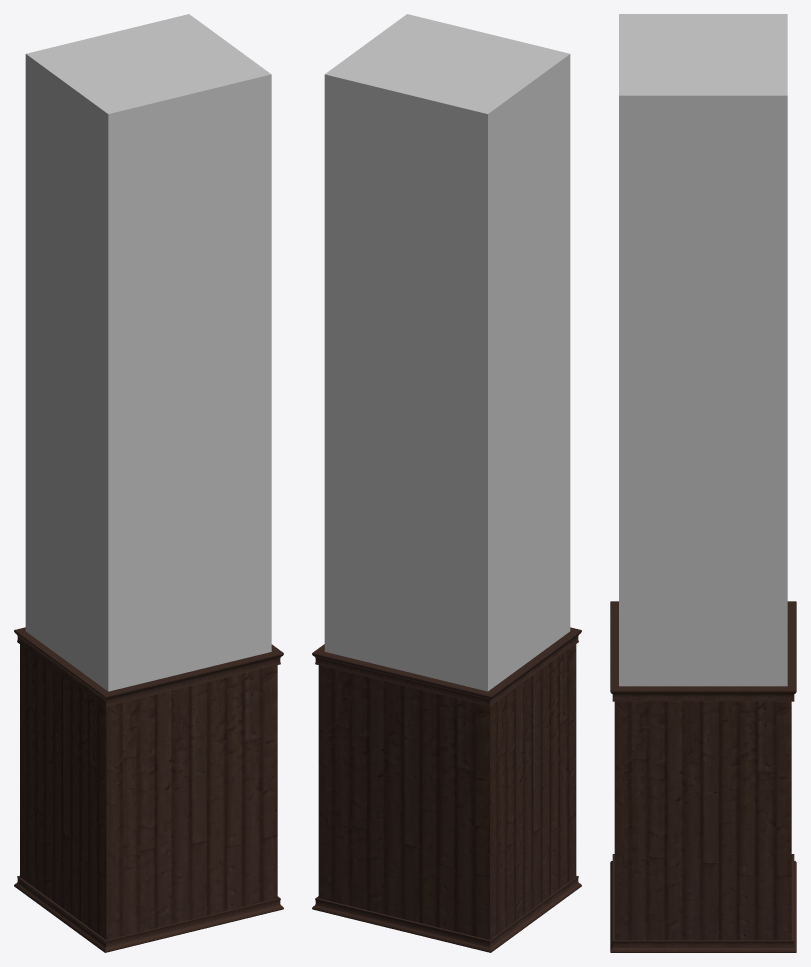
Rendered from Column.fbx.
3 renders of one model, left to right at view 1: azimuth 30°, elevation 25°; view 2: azimuth 150°, elevation 25°; view 3: azimuth 270°, elevation 25°, orthographic. The views are drawn at different scales.
Parts seen in each view (by area): view 1: column; view 2: column; view 3: column.
Boxes of the visible parts, box(x1,y1,x2,y2) form: column: box(14, 14, 283, 952); column: box(312, 14, 581, 952); column: box(610, 14, 796, 952).
Size of the model in its own units: 87.42 by 389 by 76.97.
